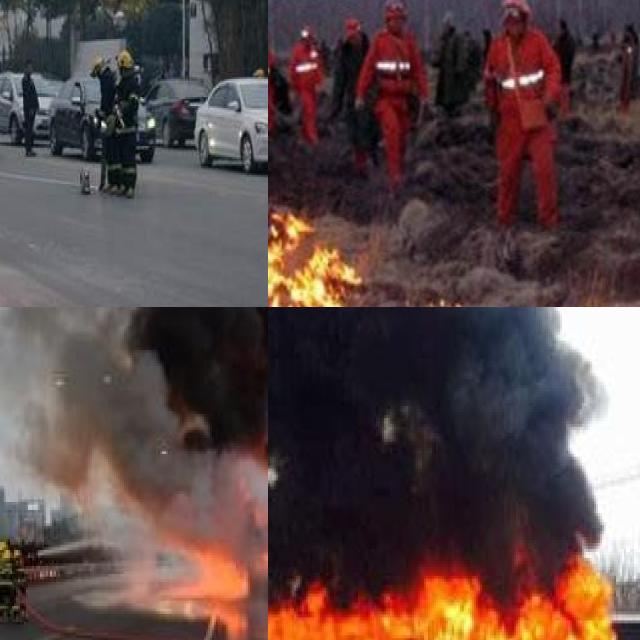fire: (268, 543, 608, 640), (170, 462, 268, 616), (268, 213, 380, 307)
smoke: (268, 307, 600, 584), (0, 307, 268, 531)
